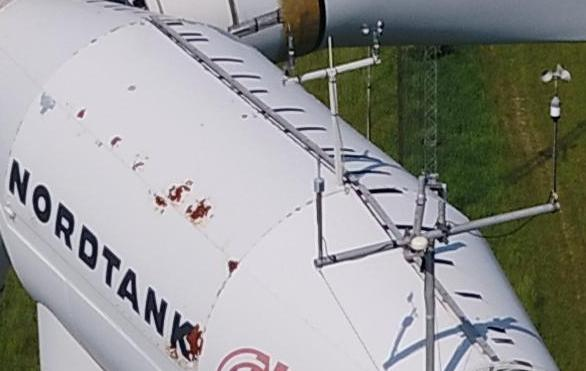damage: (184, 197, 214, 225), (185, 323, 204, 358), (169, 179, 196, 203), (148, 190, 167, 214), (40, 92, 55, 115), (132, 153, 149, 170), (227, 259, 241, 275), (168, 344, 180, 361), (111, 135, 122, 149), (76, 108, 87, 119)
